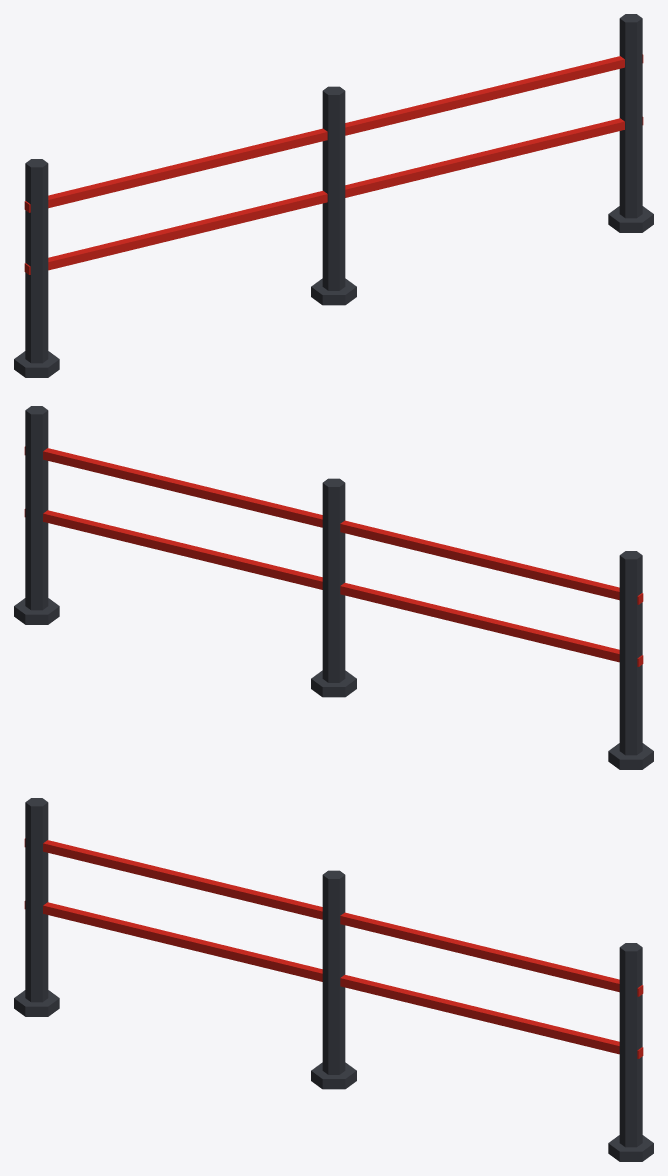
The model's file is queue_rails.glb.
The picture shows the model from 3 angles, top to bottom: view 1: azimuth 30°, elevation 25°; view 2: azimuth 150°, elevation 25°; view 3: azimuth 330°, elevation 25°; orthographic projection.
Parts seen in each view (by area): view 1: queue_rails; view 2: queue_rails; view 3: queue_rails.
Boxes of the visible parts, x1,y1,x2,y2 form: queue_rails: [14, 14, 653, 377]; queue_rails: [14, 406, 653, 769]; queue_rails: [14, 798, 653, 1161].
Bounding box in the file's own units: 3.17 × 1 × 0.2.
